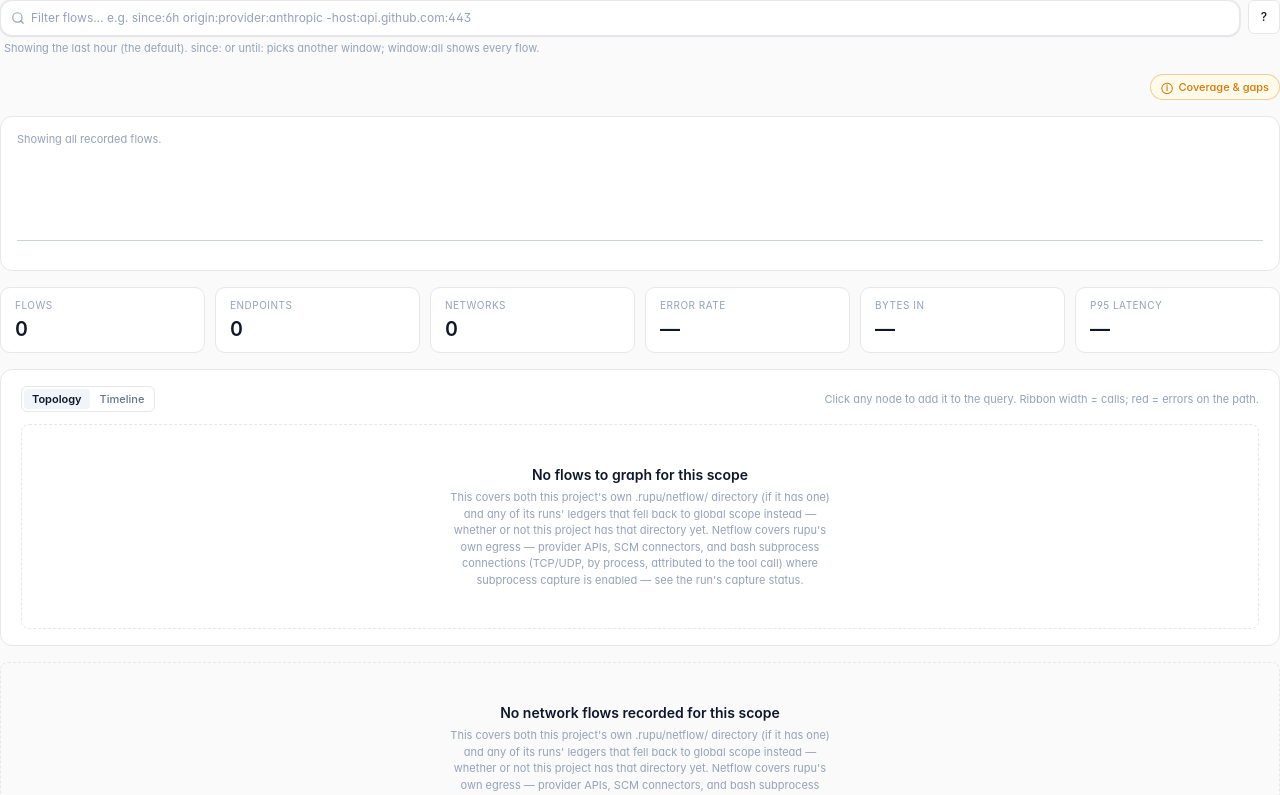
Test case: ProjectNetworkTab › surfaces the scope disclosure through the coverage popover
Click the button "ⓘ Coverage & gaps".
click(1215, 87)  # box left=1150, top=74, right=1279, bottom=100
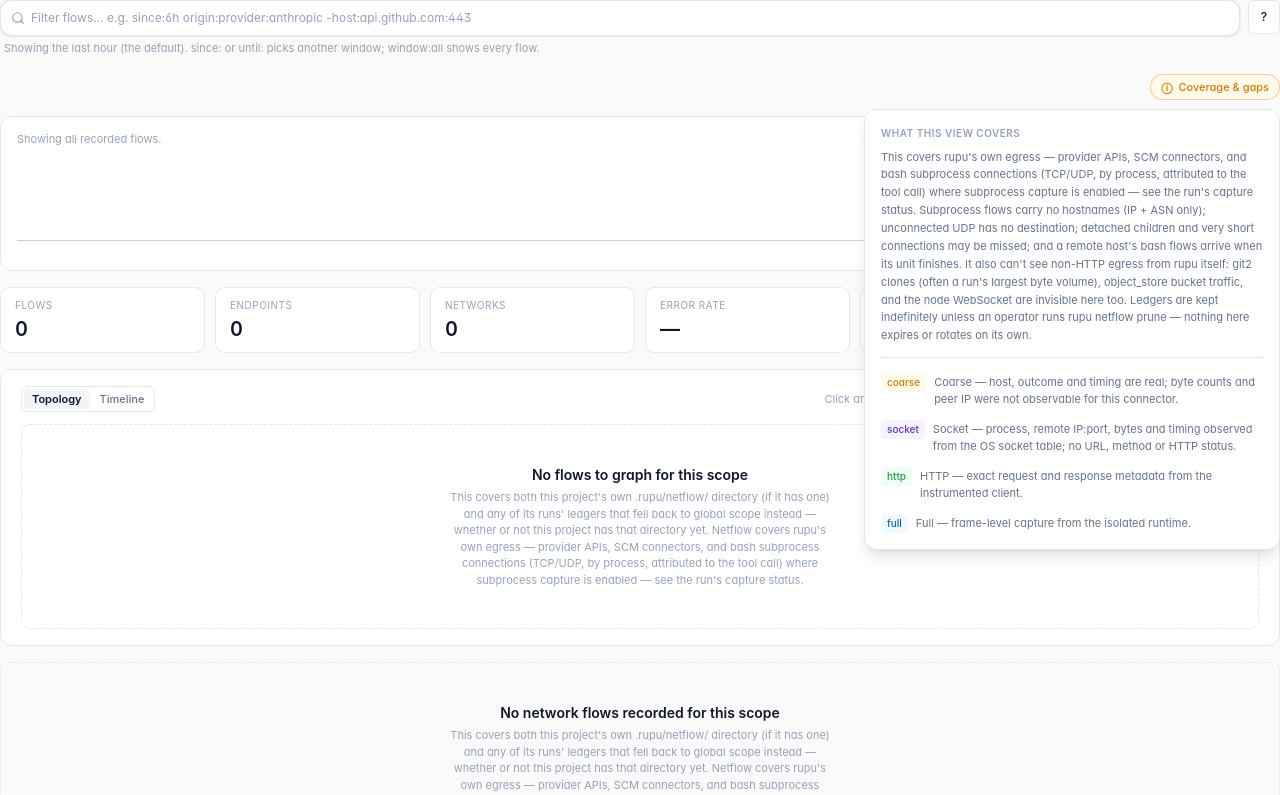
Result: the text "git2 clones" is shown at left=881, top=150, right=1262, bottom=342
